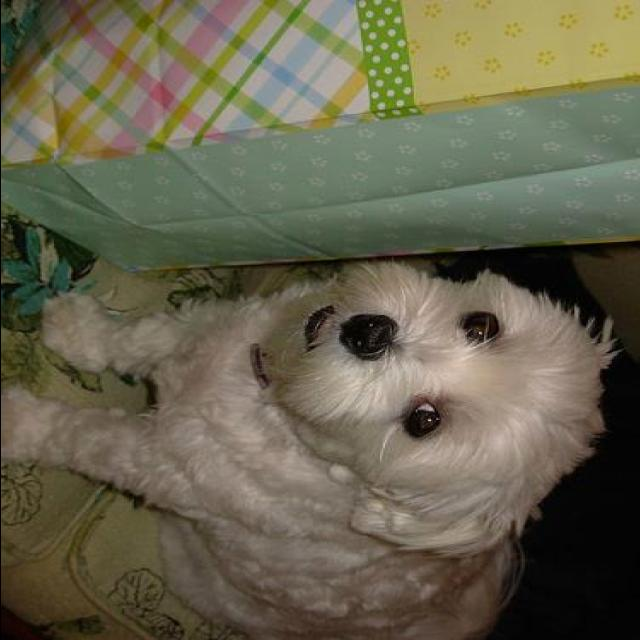maltese_dog: (5, 260, 621, 635)
